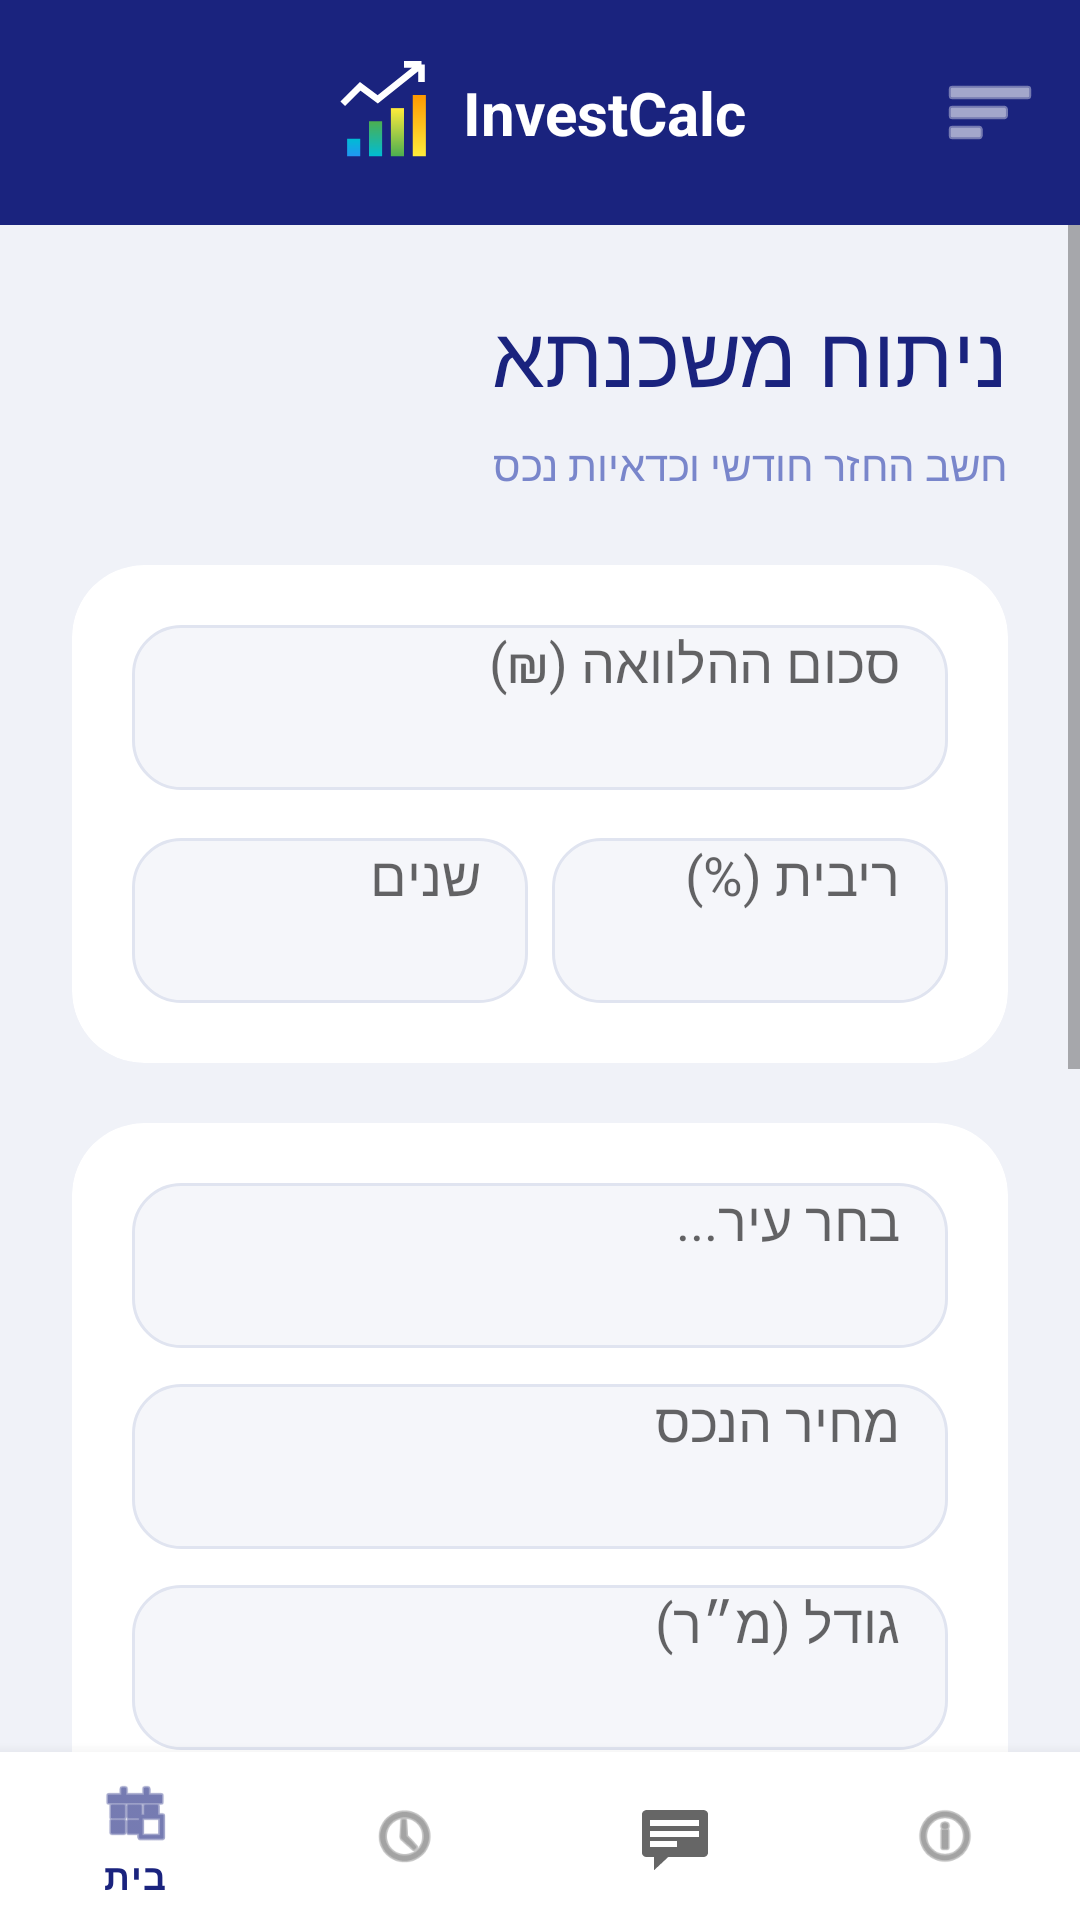

Screen size 1080x1920. Icon name, then its box in pixels as region(x1, y1, x2, y2):
growth graph: region(340, 61, 426, 157)
sort by size: region(949, 86, 1031, 139)
